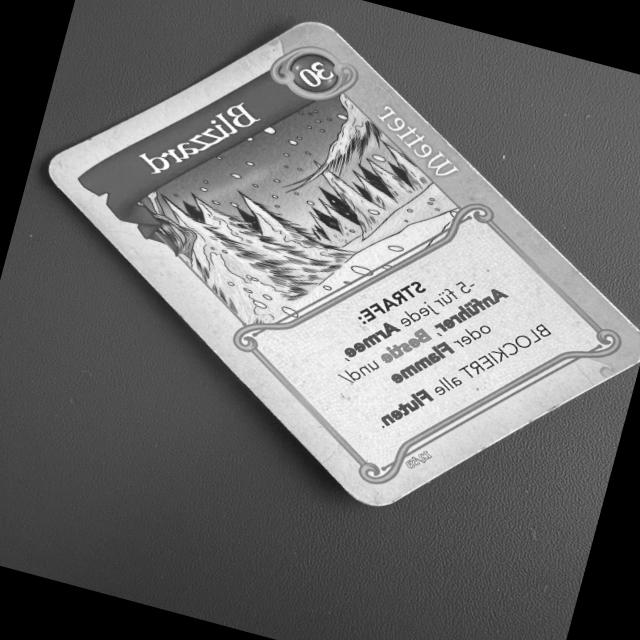Blizzard: (41, 16, 640, 518)
